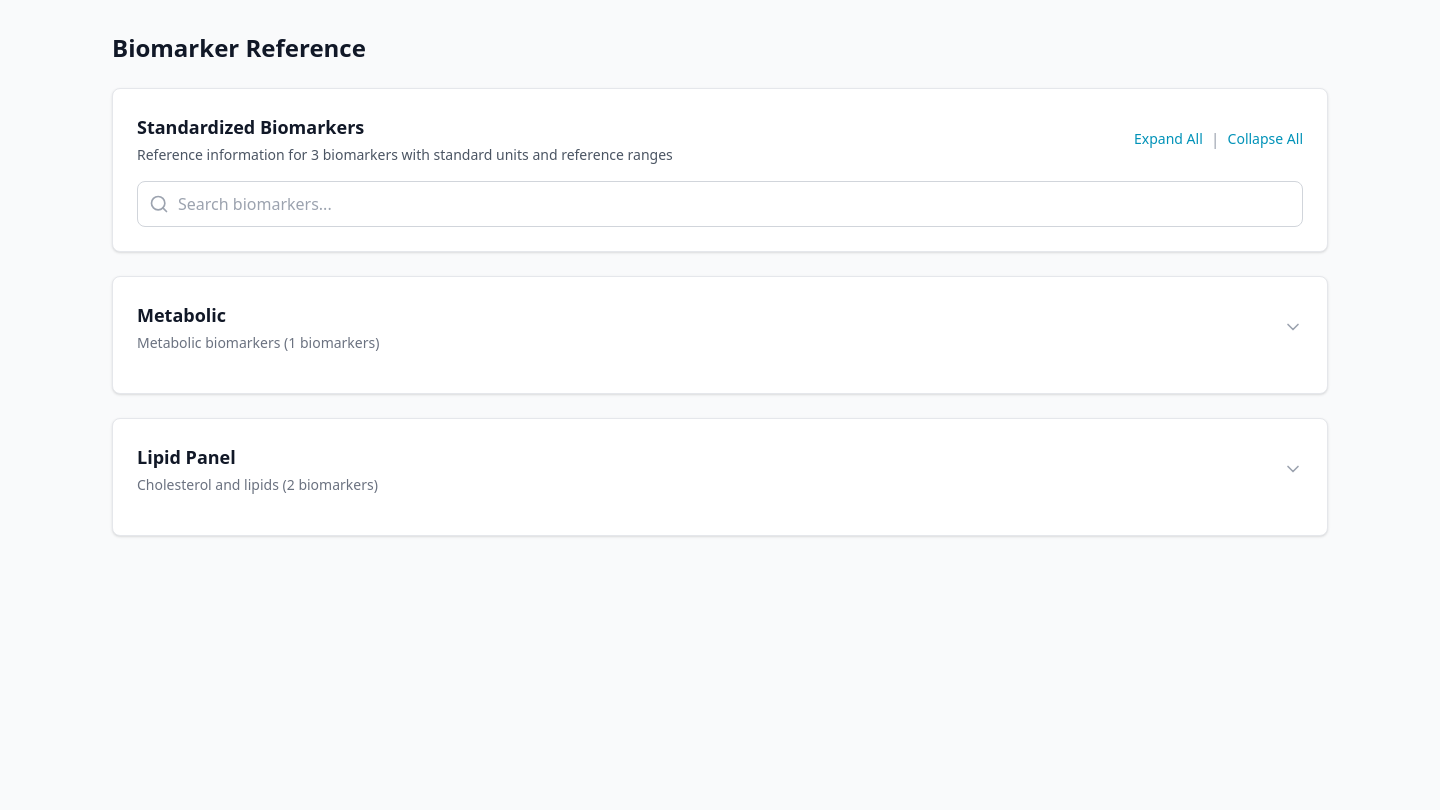
Scenario: BiomarkersPage › with biomarkers › collapses all categories when clicking Collapse All
# First expand all
Click the button "Expand All": (1168, 139) [1134,129,1203,149]
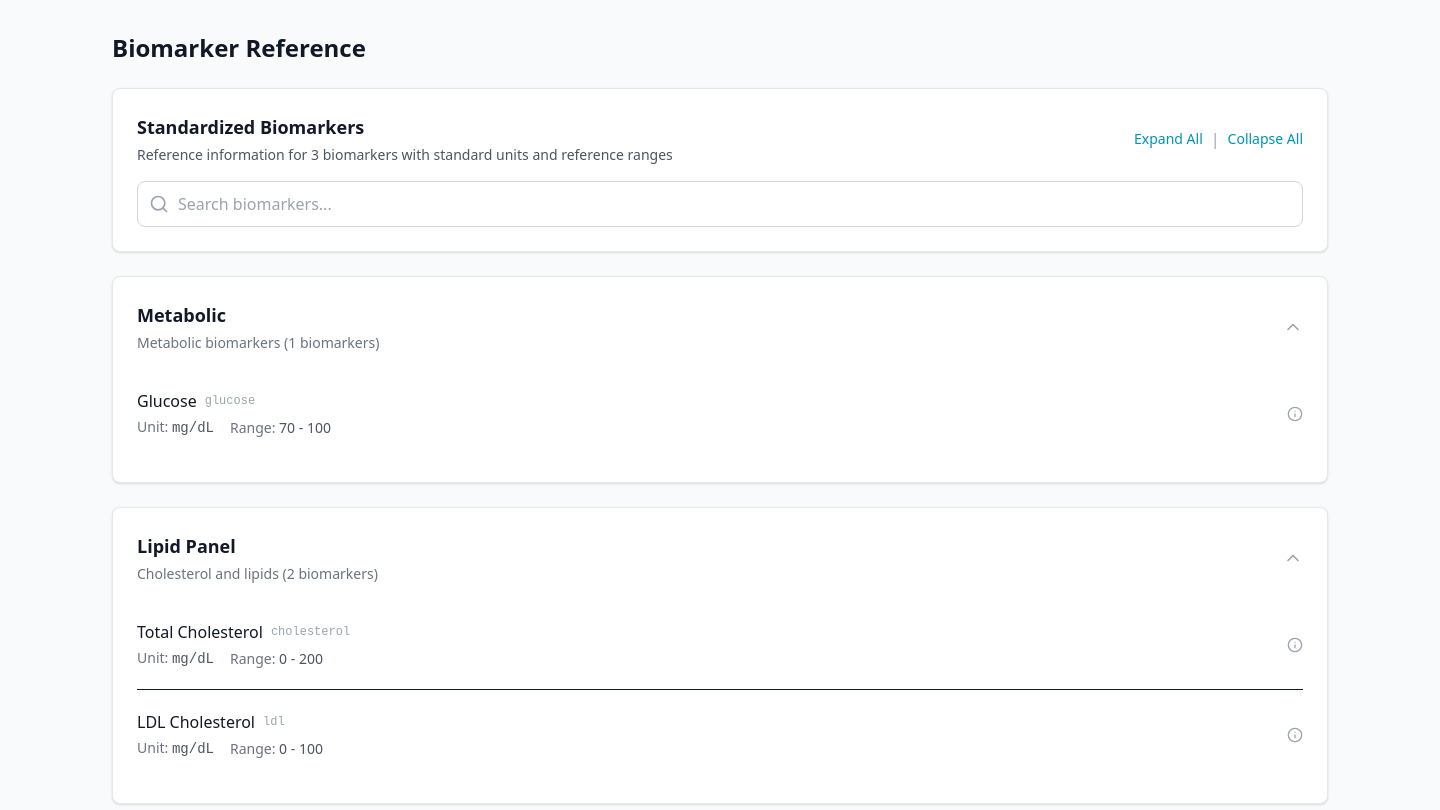
Result: the text "Glucose" is shown at [137,389,197,413]
# Then collapse all
Click the button "Collapse All": (1265, 139) [1228,129,1303,149]
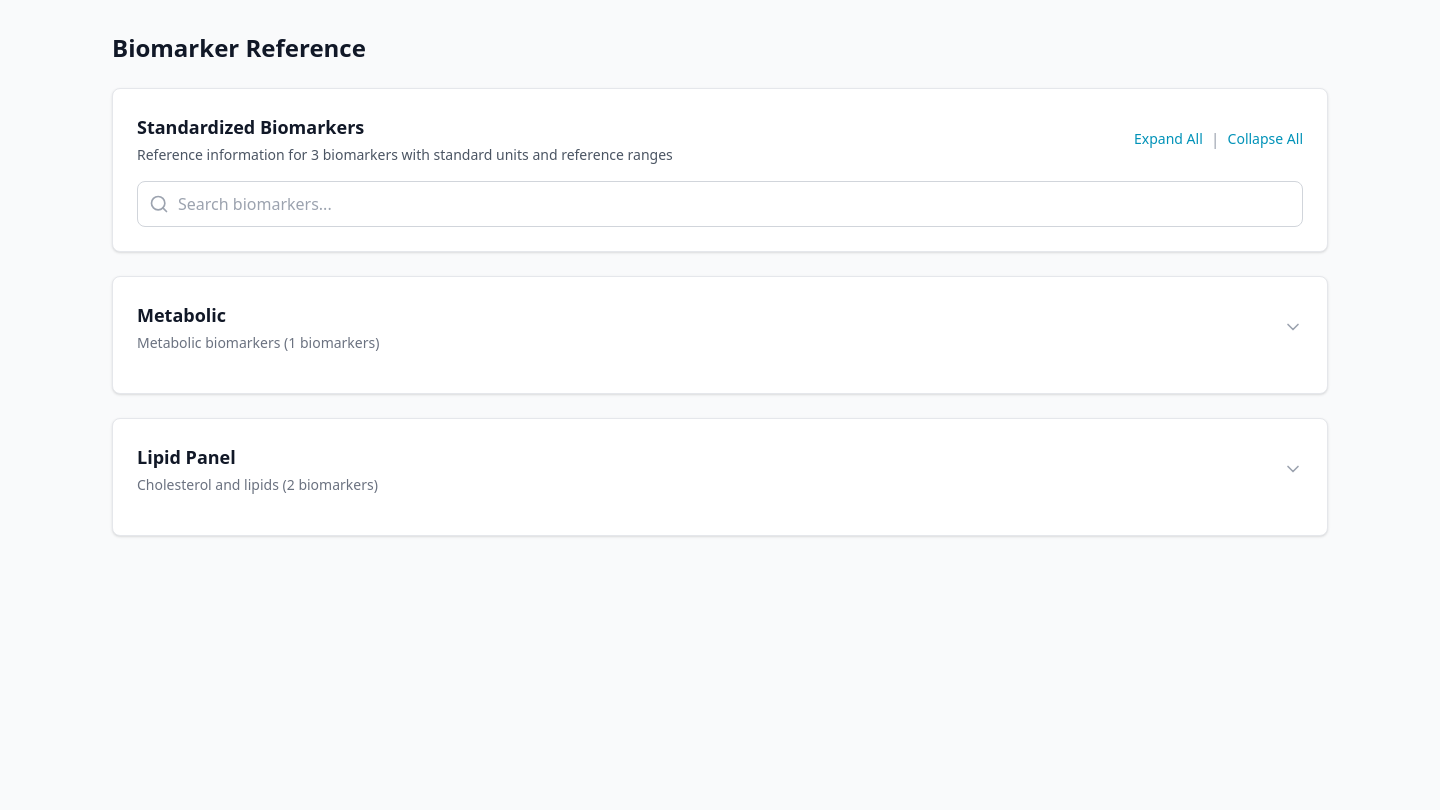
Result: the text "Glucose" is gone
